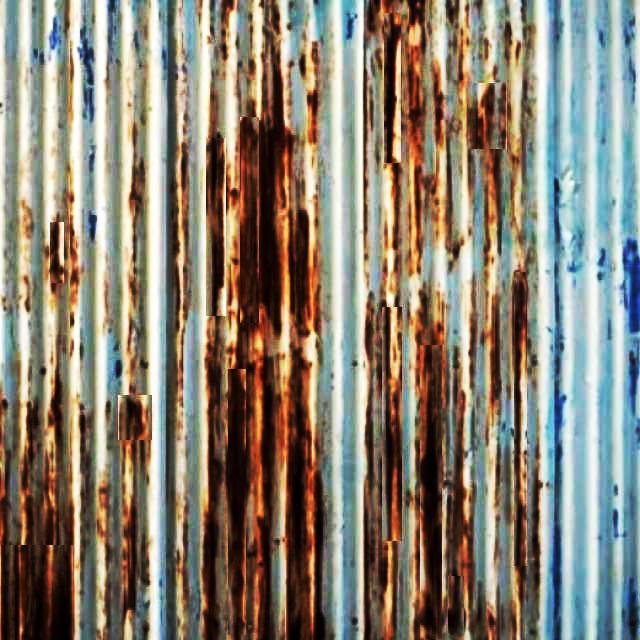Corrosion: (288, 390, 319, 640), (1, 547, 70, 640), (240, 116, 260, 324), (205, 317, 227, 492), (282, 349, 306, 500), (227, 369, 248, 536), (260, 206, 287, 332), (206, 134, 226, 304), (291, 210, 317, 334), (385, 12, 402, 162), (385, 12, 402, 162), (204, 482, 220, 640), (229, 514, 247, 640), (268, 67, 287, 184), (123, 451, 136, 614), (260, 115, 274, 257), (118, 397, 152, 442)
